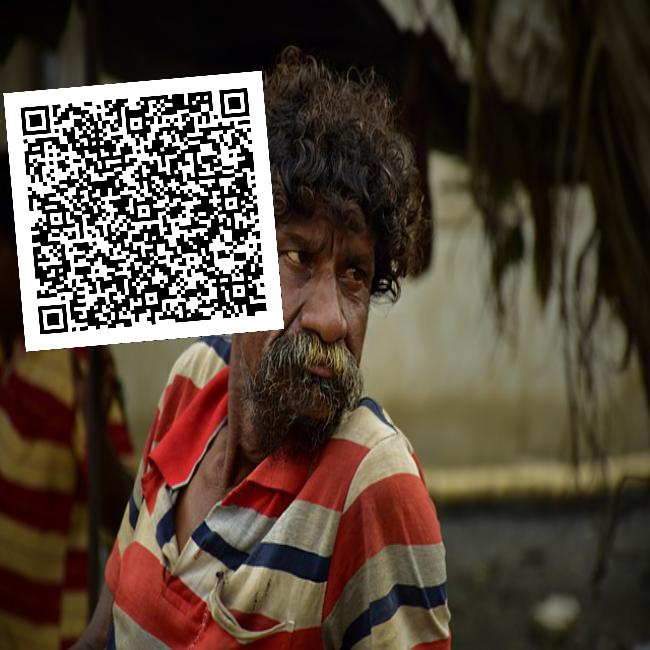qr_code: (3, 71, 283, 351)
